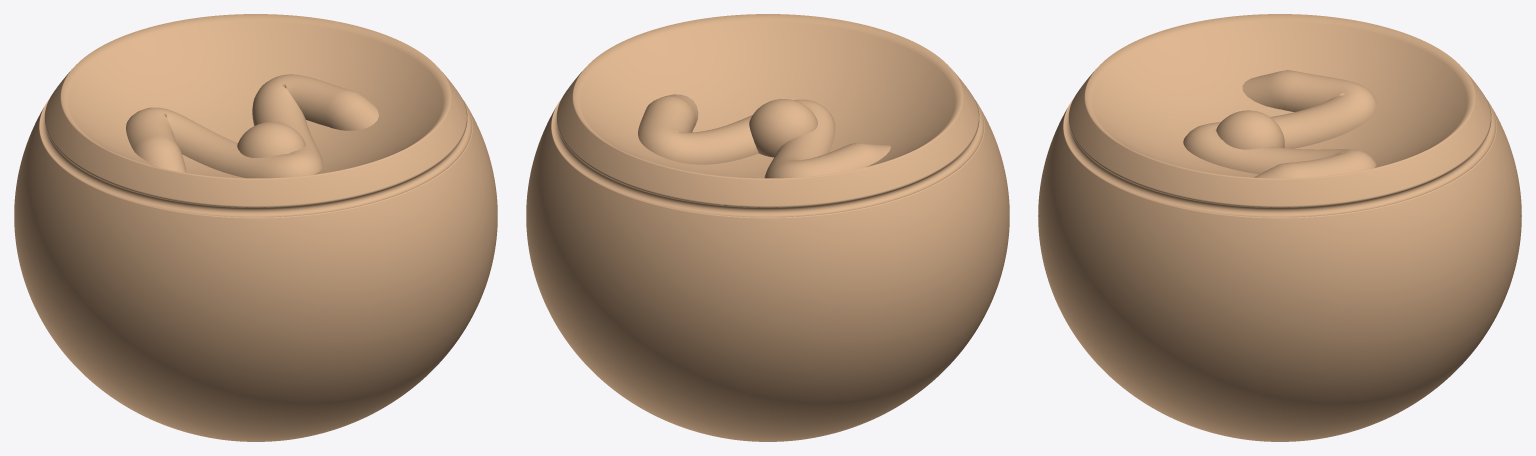
The model's file is sentient-eye.glb.
3 views of the same model, side by side, from view 1: azimuth 30°, elevation 25°; view 2: azimuth 150°, elevation 25°; view 3: azimuth 270°, elevation 25° (orthographic).
Visible parts, largest first — view 1: Sphere, ribbon, Sphere.001; view 2: Sphere, ribbon, Sphere.001; view 3: Sphere, ribbon, Sphere.001.
Part boxes in pixels (x1,y1,x2,y2): Sphere: (14, 14, 497, 441); ribbon: (126, 74, 378, 178); Sphere.001: (237, 122, 305, 157); Sphere: (526, 14, 1009, 441); ribbon: (638, 94, 890, 178); Sphere.001: (749, 99, 817, 157); Sphere: (1038, 14, 1521, 441); ribbon: (1183, 70, 1376, 178); Sphere.001: (1216, 110, 1284, 149).
Bounding box in the file's own units: 2 × 1.47 × 2.
